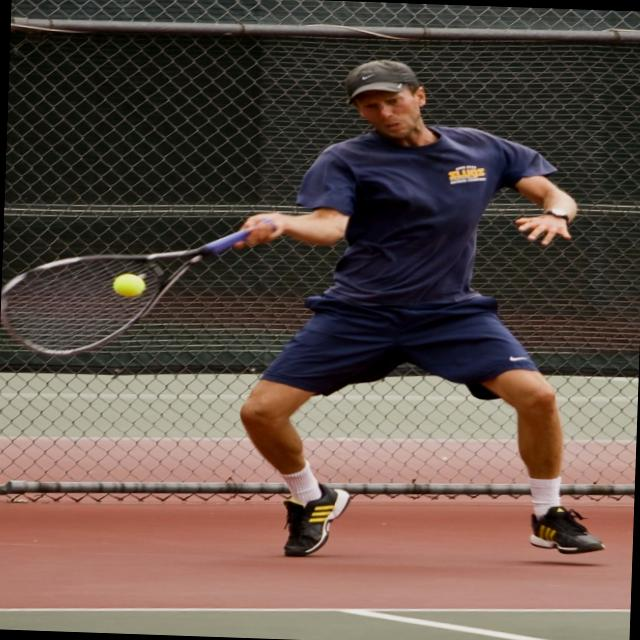Tennis Ball: (112, 274, 146, 298)
